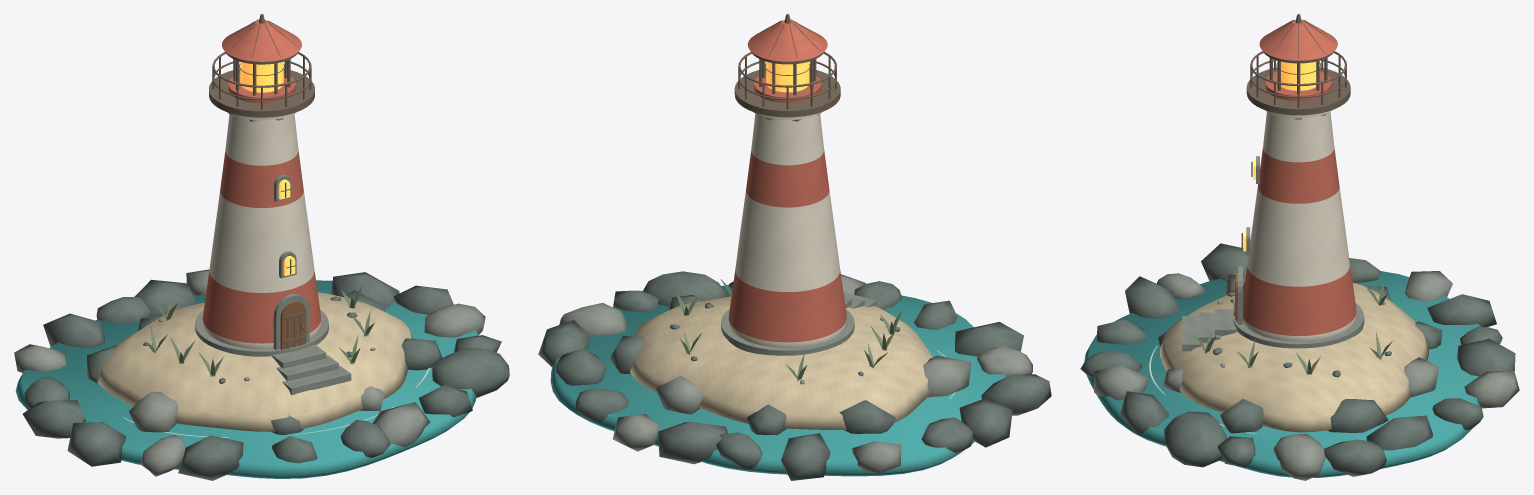
File: lighthouse-island-v6-lod.glb
The picture shows the model from 3 angles, left to right: view 1: azimuth 30°, elevation 25°; view 2: azimuth 150°, elevation 25°; view 3: azimuth 270°, elevation 25°; orthographic projection. The views are drawn at different scales.
Parts seen in each view (by area): view 1: Lighthouse | collectible LOD; view 2: Lighthouse | collectible LOD; view 3: Lighthouse | collectible LOD.
Part boxes in pixels (x1,y1,x2,y2): Lighthouse | collectible LOD: (14,14,509,480); Lighthouse | collectible LOD: (538,14,1051,480); Lighthouse | collectible LOD: (1080,14,1519,480).
Bounding box in the file's own units: 1.89 × 1.51 × 1.62.
Materials: 11 (5 with a texture image).
